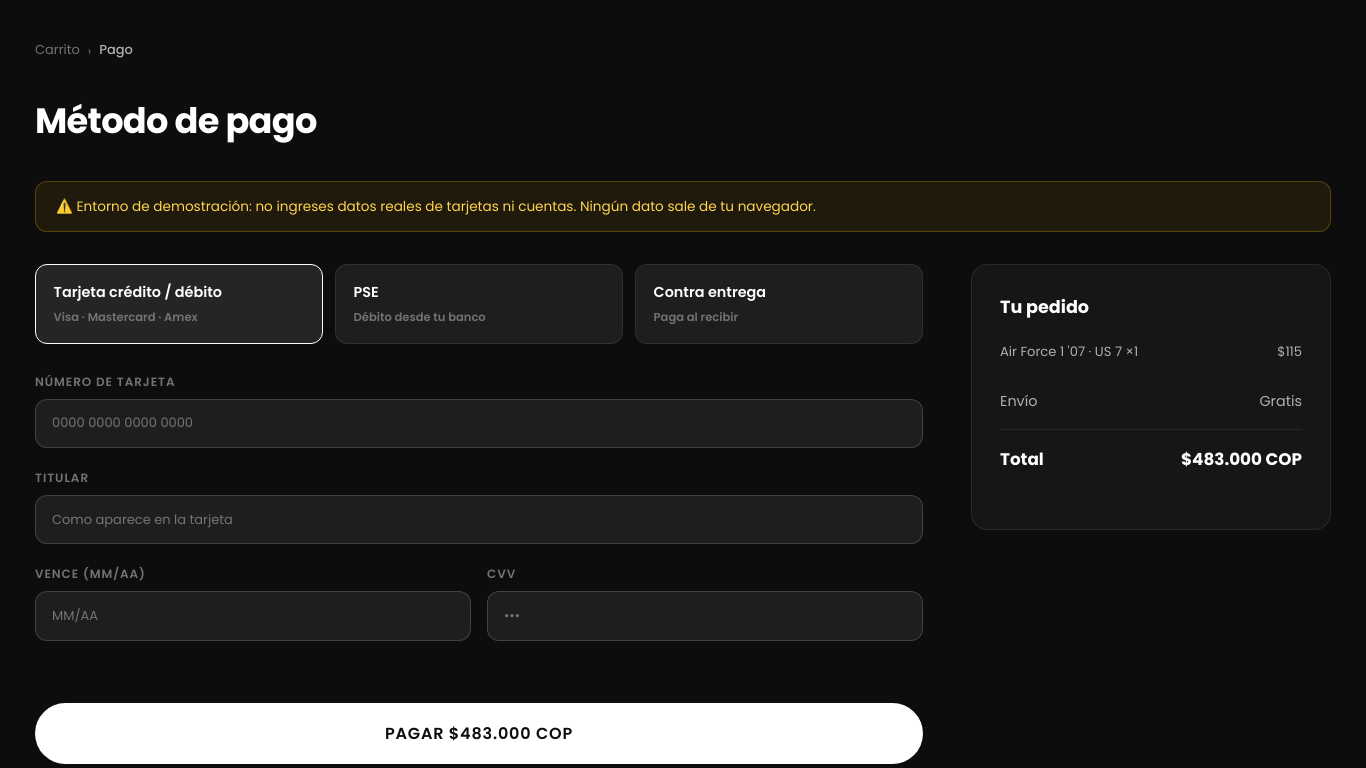
PagoPage — validación de formulario › confirma el pedido con datos válidos y vacía el carrito
Type "4111111111111111" into the field labelled "Número de tarjeta" at {"x": 479, "y": 423}, box [35,399,923,448]
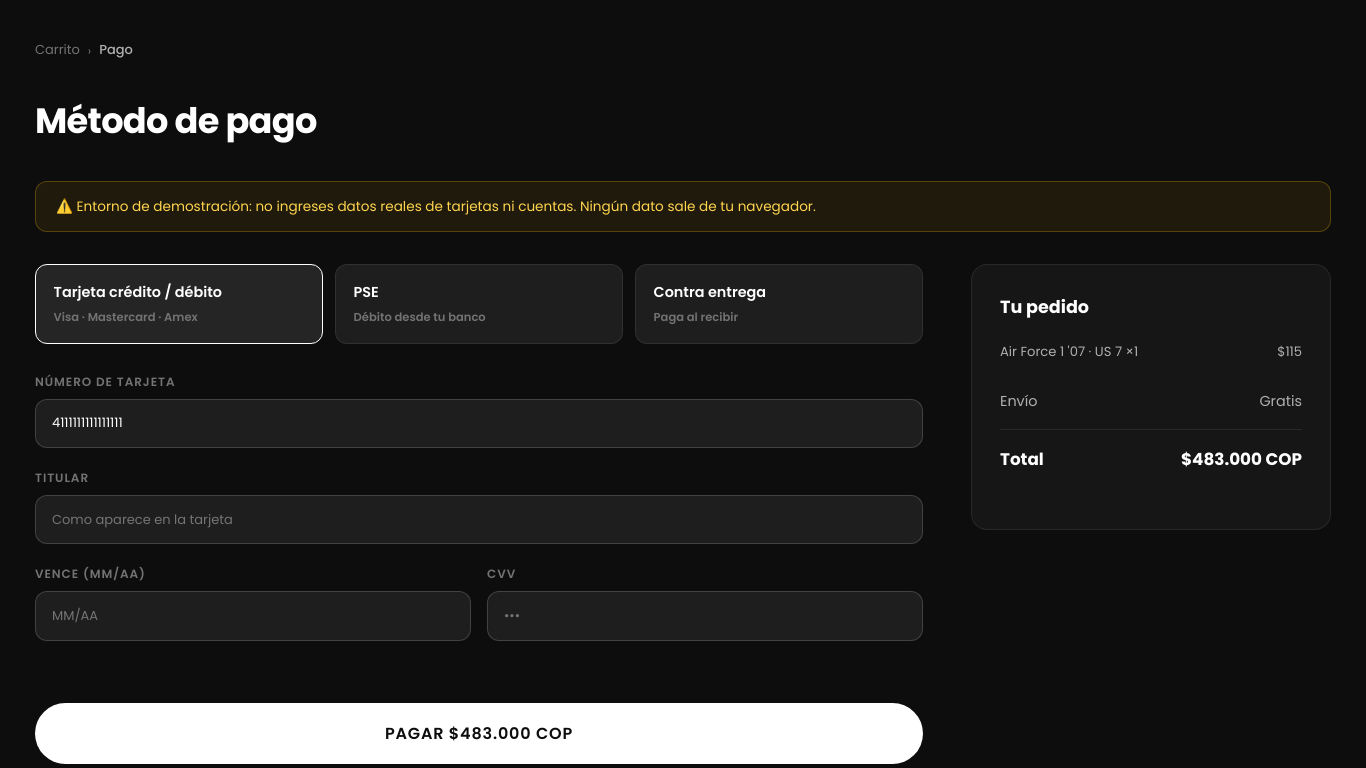
Type "Juan Perez" into the field labelled "Titular" at {"x": 479, "y": 520}, box [35,495,923,544]
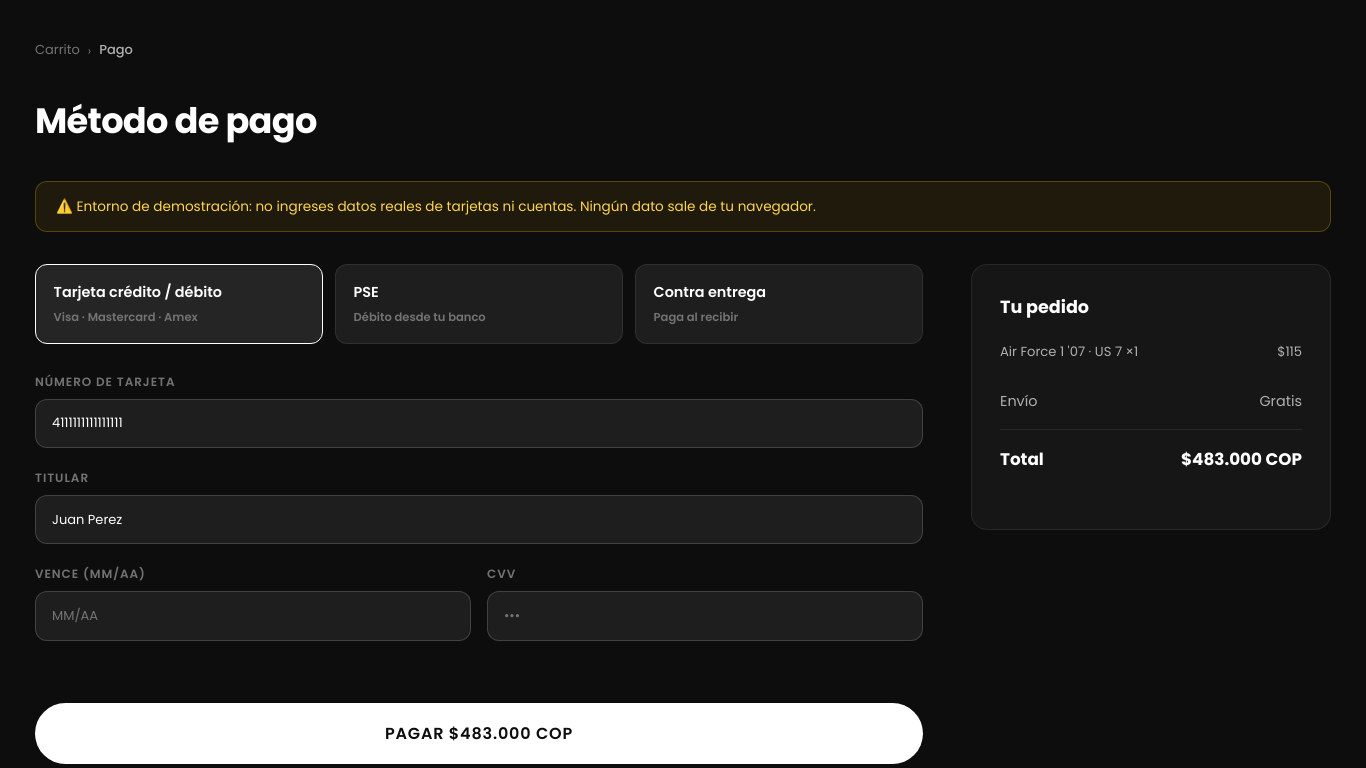
Type "12/28" into the field labelled "Vence (MM/AA)" at {"x": 253, "y": 616}, box [35,592,471,641]
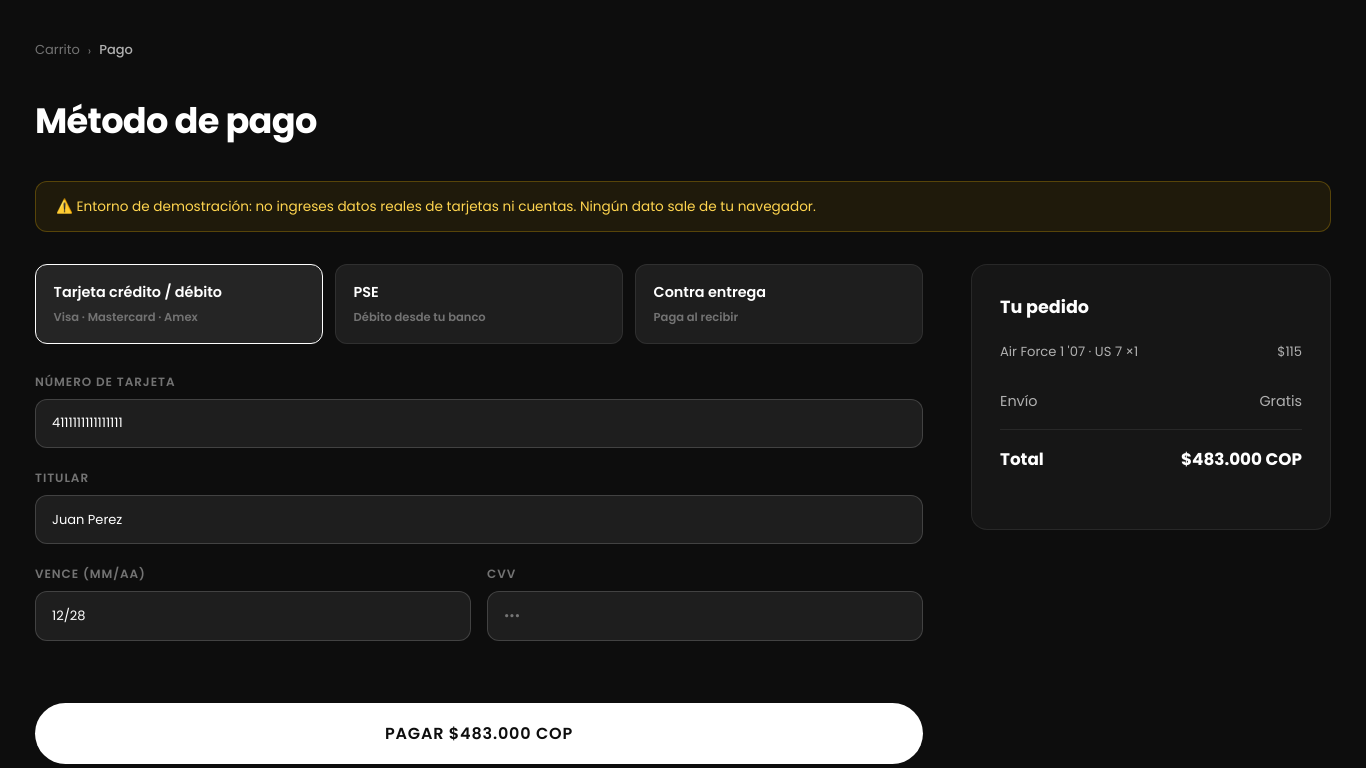
Type "123" into the password field labelled "CVV" at {"x": 705, "y": 616}, box [487,592,923,641]
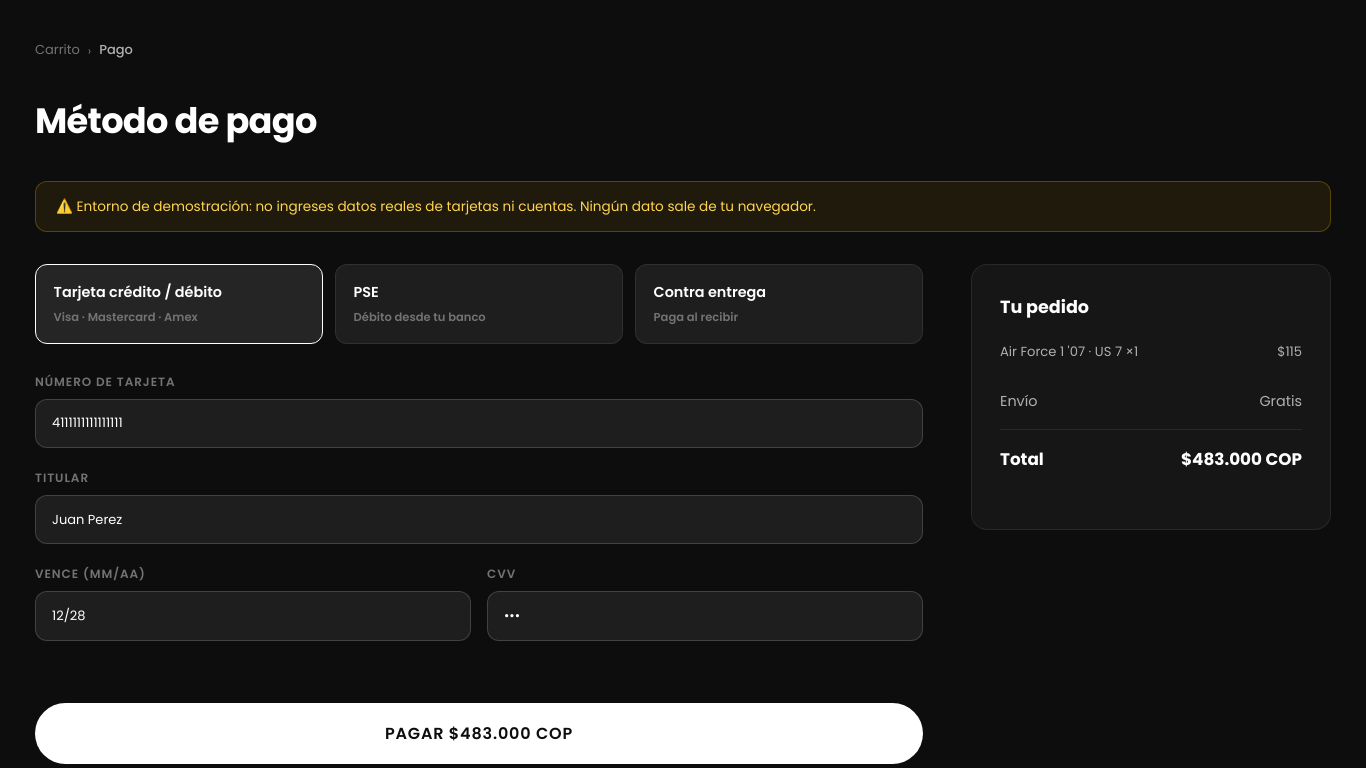
Click the button "Pagar $483.000 COP" at {"x": 479, "y": 734}, box [35,703,923,764]
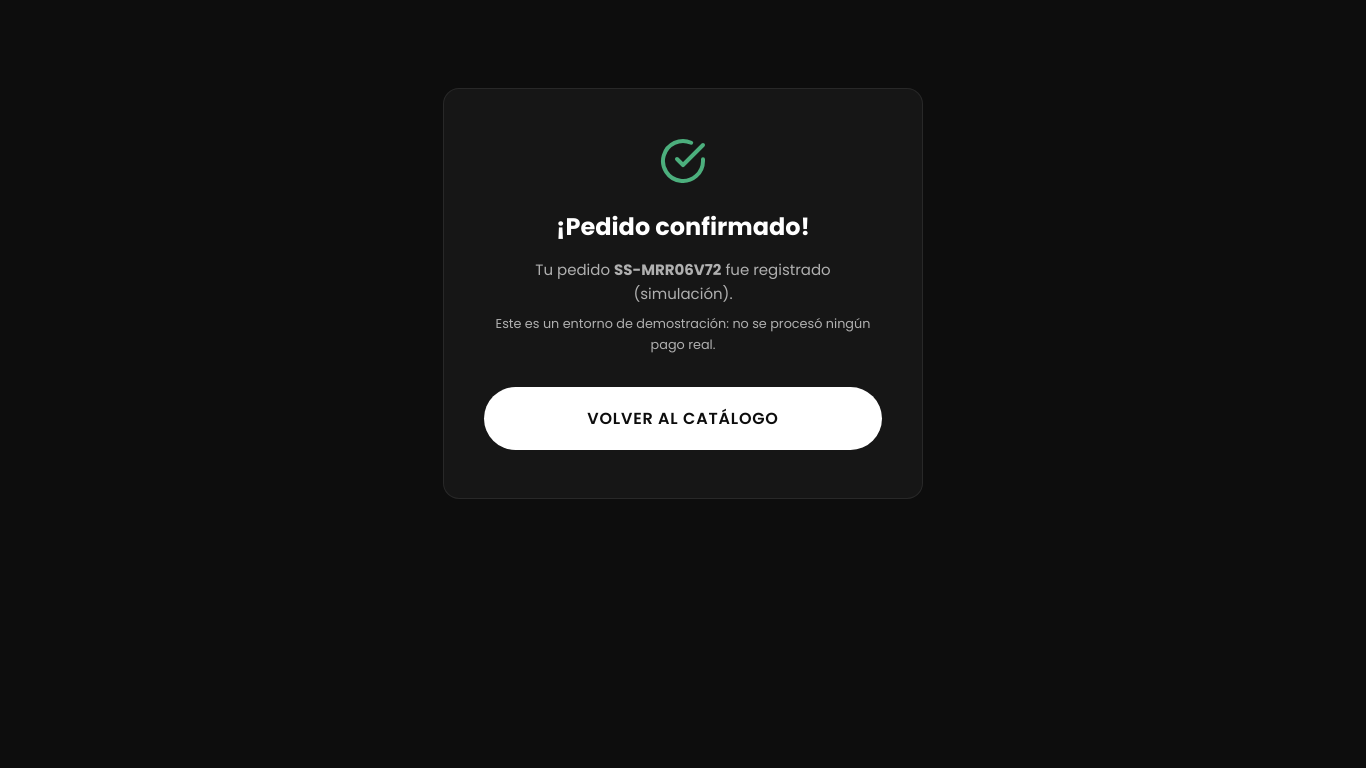
Check: the heading "¡Pedido confirmado!" is shown, box [556,210,810,243]
